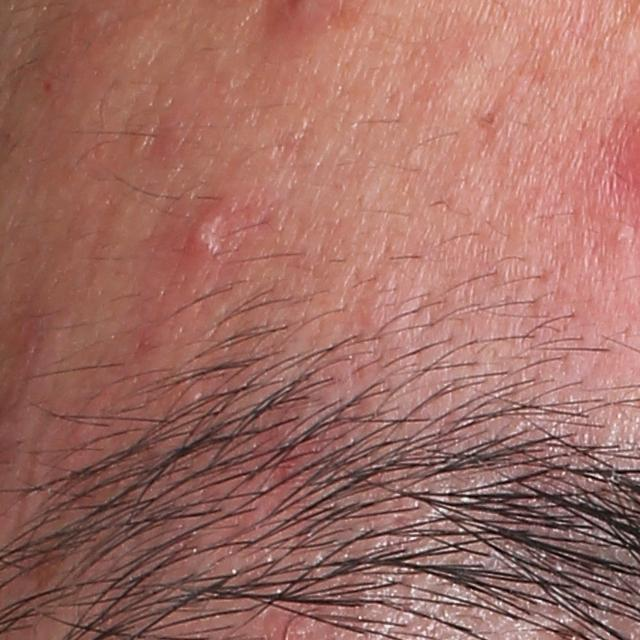comedo: (480, 109, 500, 128)
